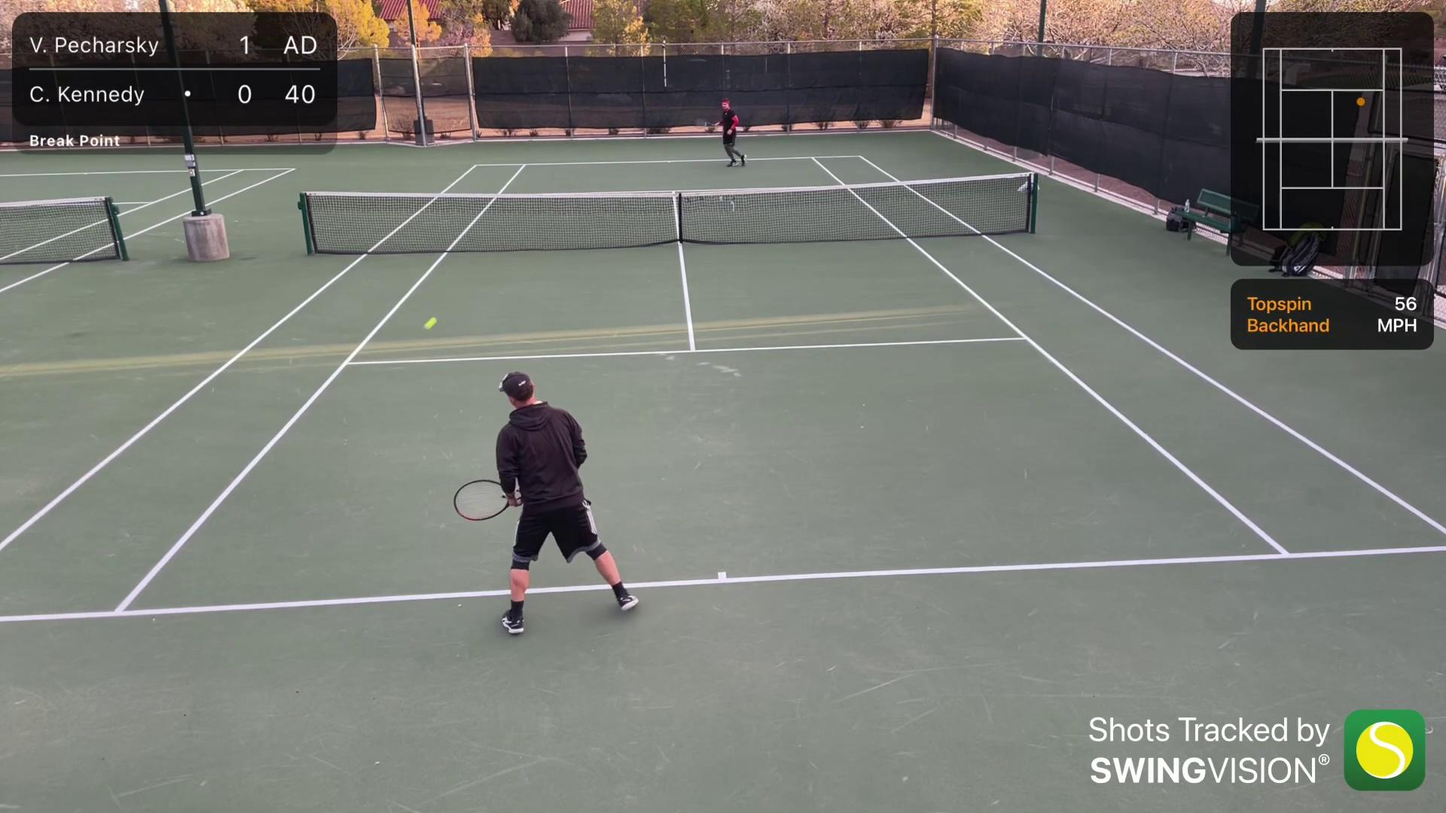ball: (419, 314, 441, 332), (194, 387, 199, 391)
